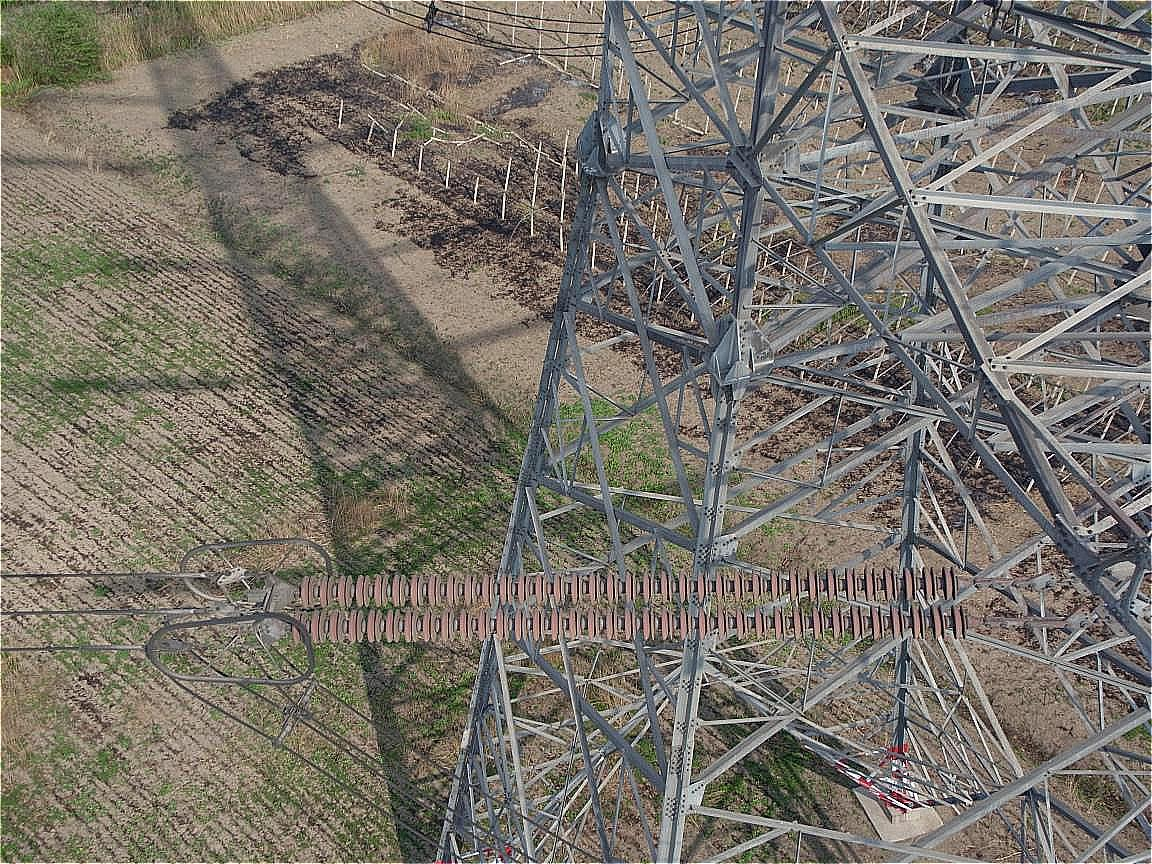insultor2: (265, 547, 982, 669)
